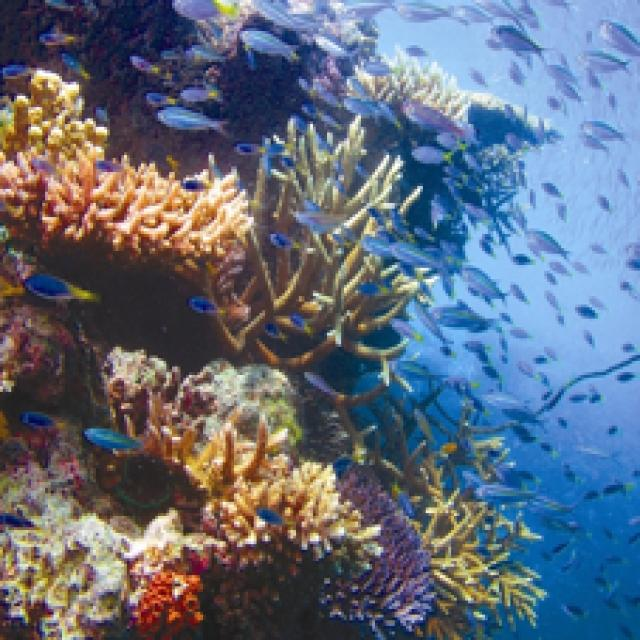Bleached: (356, 55, 500, 136)
Healthy: (207, 117, 424, 387), (1, 142, 252, 297), (150, 396, 376, 548), (4, 461, 139, 638), (407, 489, 542, 638), (325, 469, 435, 630), (1, 71, 105, 162), (134, 571, 201, 638)
